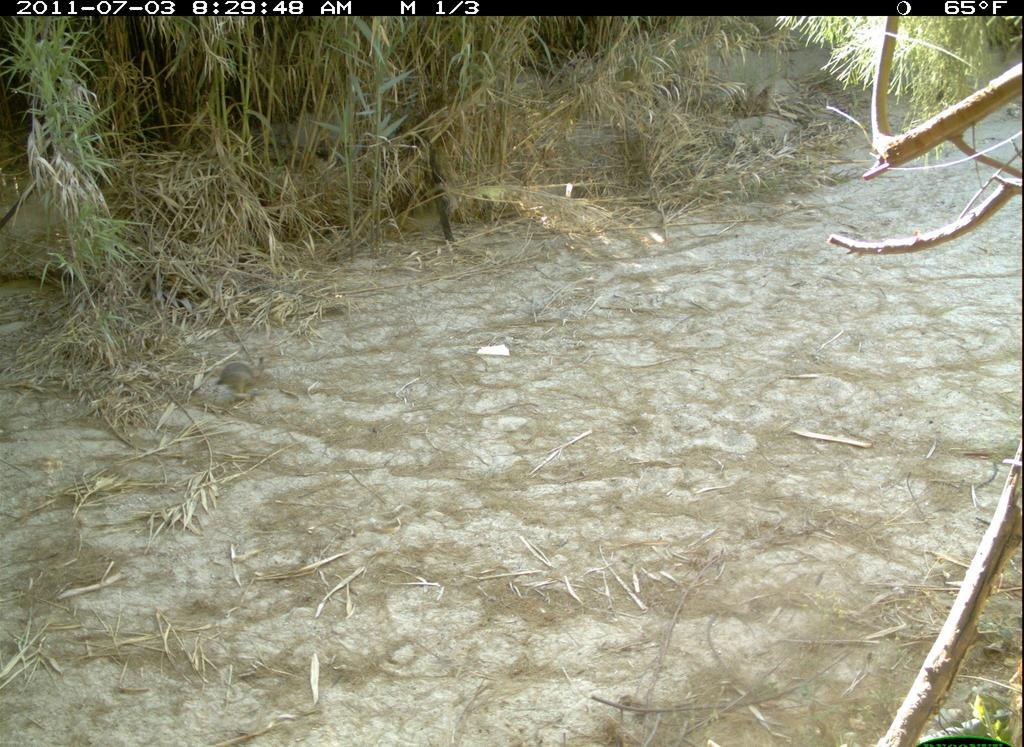rabbit: (210, 354, 275, 404)
